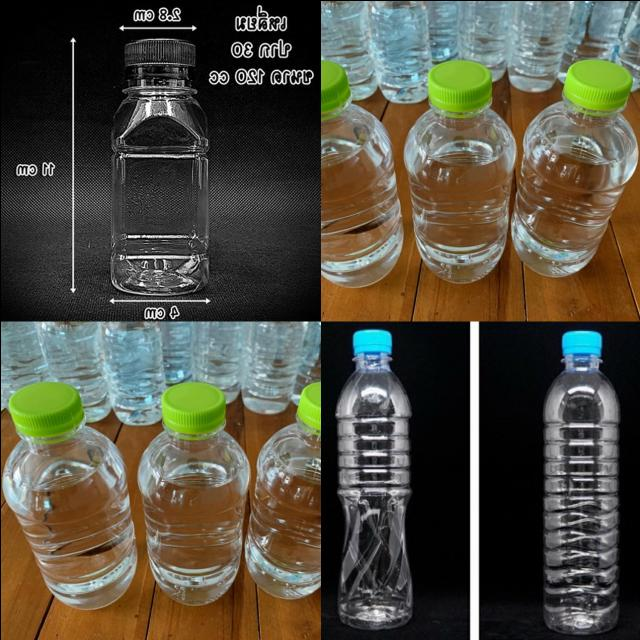plastik: (2, 381, 136, 609), (510, 59, 637, 276), (110, 37, 208, 295), (403, 59, 515, 283), (138, 381, 248, 605), (541, 329, 619, 634), (335, 328, 412, 629), (320, 59, 402, 287), (243, 381, 320, 598), (36, 321, 110, 421), (368, 0, 432, 102), (102, 321, 165, 424), (506, 0, 572, 92), (241, 321, 306, 413), (559, 0, 627, 80), (458, 0, 515, 80), (193, 321, 247, 402), (0, 321, 48, 405)
